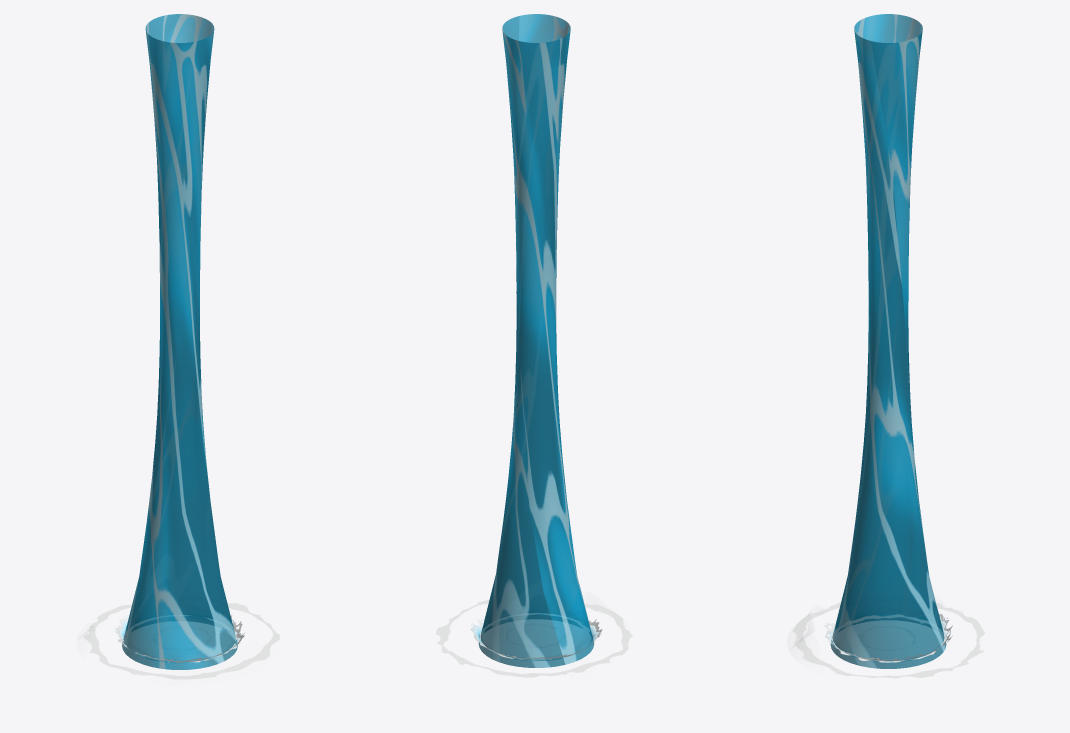
The model's file is VFX_WaterSproudBlockout_GLTF_1.gltf.
3 views of the same model, side by side, from view 1: azimuth 30°, elevation 25°; view 2: azimuth 150°, elevation 25°; view 3: azimuth 270°, elevation 25° (orthographic).
Visible parts, largest first — view 1: Sproud_Vertical_Mesh, White_Waves, Waves_Cylinder_Mesh; view 2: Sproud_Vertical_Mesh, White_Waves, Waves_Cylinder_Mesh; view 3: Sproud_Vertical_Mesh, White_Waves, Waves_Cylinder_Mesh.
Part boxes in pixels (x1,y1,x2,y2): Sproud_Vertical_Mesh: (122,14,237,669); White_Waves: (83,603,279,679); Waves_Cylinder_Mesh: (114,614,244,662); Sproud_Vertical_Mesh: (478,14,594,667); White_Waves: (436,599,632,677); Waves_Cylinder_Mesh: (470,612,602,660); Sproud_Vertical_Mesh: (830,14,946,668); White_Waves: (792,602,984,678); Waves_Cylinder_Mesh: (823,614,952,661).
Size of the model in its own units: 5.04 by 10.35 by 4.96.
Materials: 5 (5 with a texture image).
